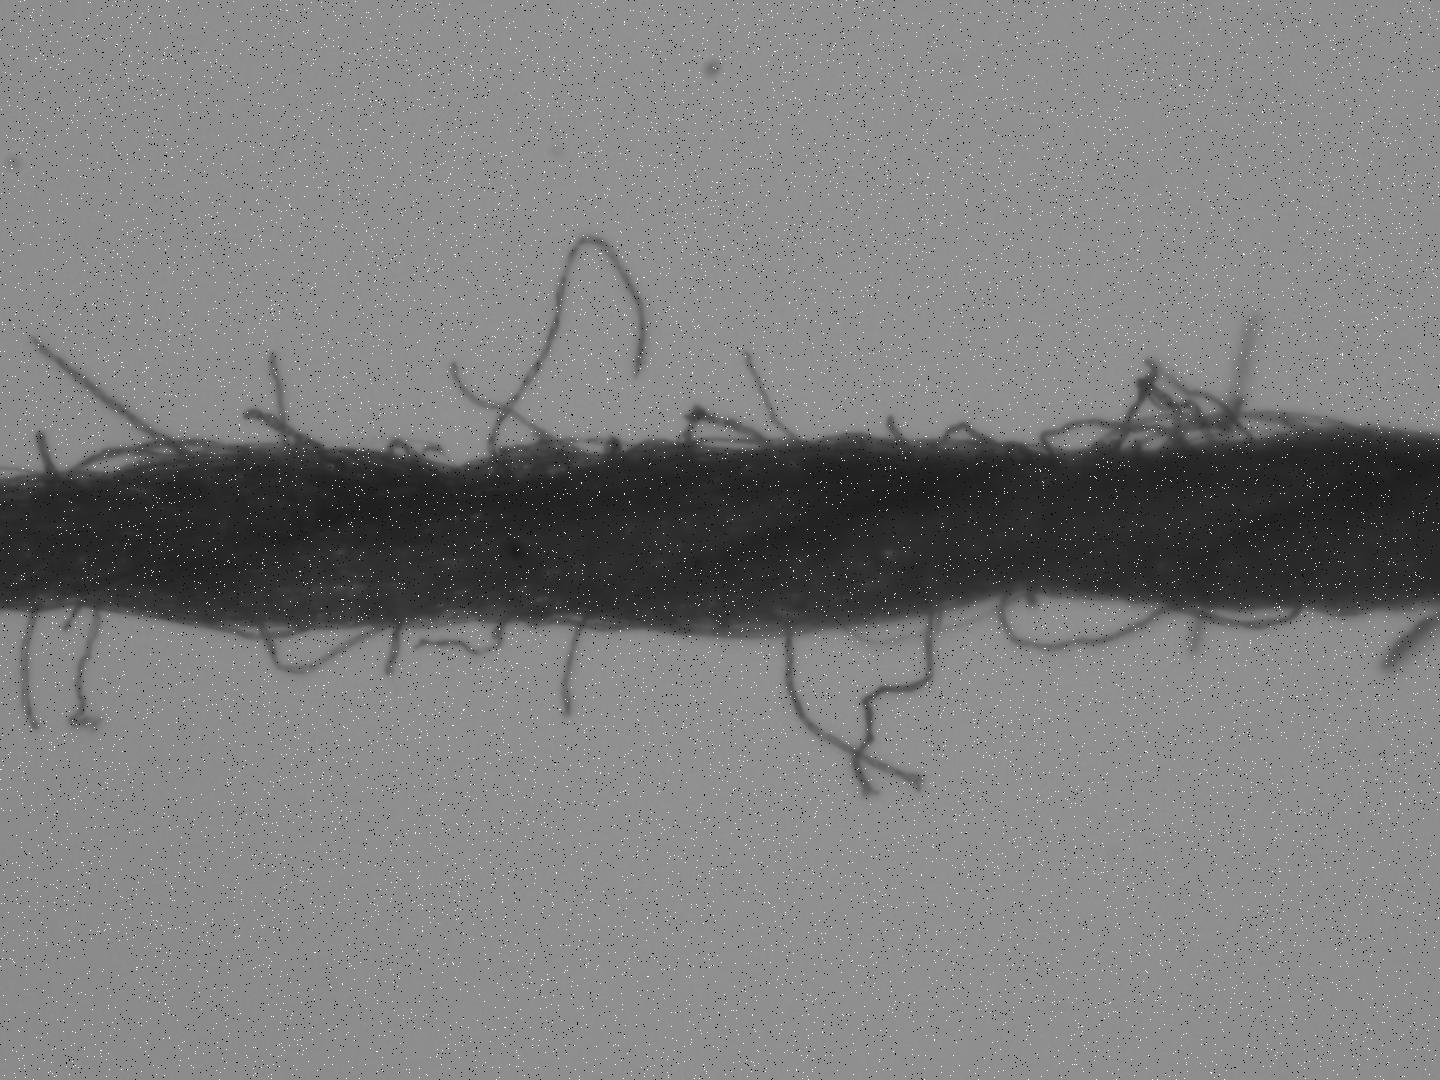loop_fiber: (1098, 406, 1353, 453), (1008, 593, 1170, 650), (68, 439, 252, 478), (266, 624, 389, 678), (1172, 601, 1305, 632), (685, 412, 777, 454), (839, 614, 934, 648), (933, 589, 1001, 631), (939, 422, 1011, 447), (384, 436, 425, 463)
